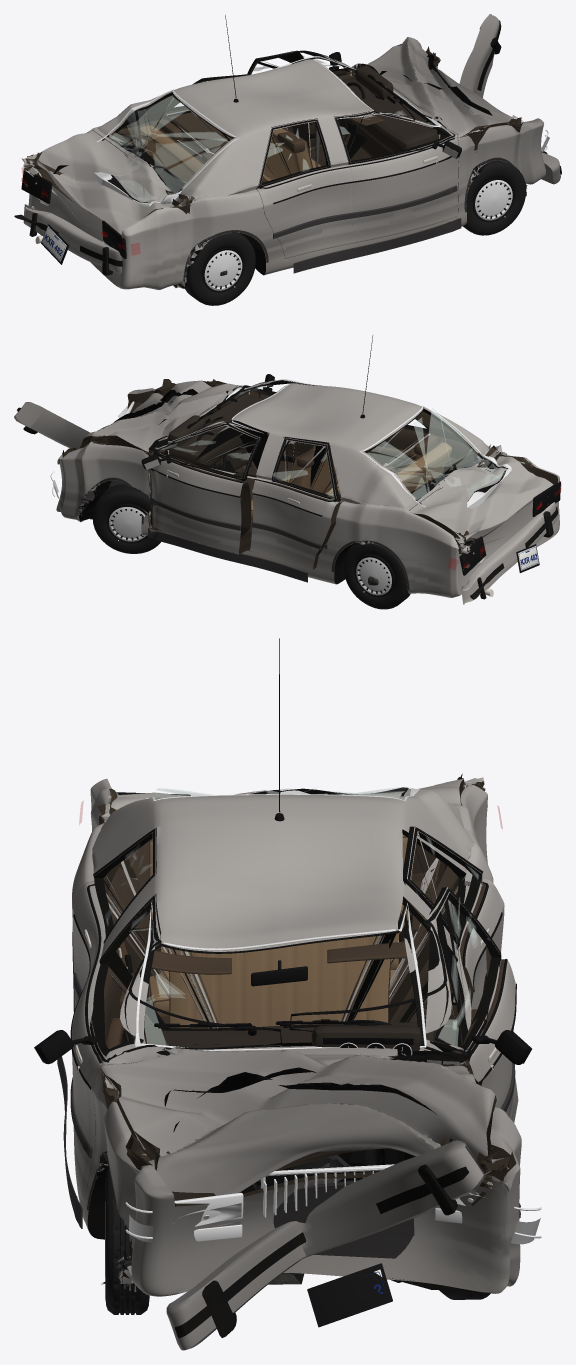
File: sedan87_front_d2.glb
The picture shows the model from 3 angles, top to bottom: view 1: azimuth 30°, elevation 25°; view 2: azimuth 150°, elevation 25°; view 3: azimuth 270°, elevation 25°; orthographic projection. The views are drawn at different scales.
Parts seen in each view (by area): view 1: Body, Interior, Door_FR, Trunk, Glass, Door_RR, Hood, Wheel_RR_mesh, Wheel_FR_mesh, Trim, Bumper_R, Bumper_F (+6 smaller); view 2: Body, Door_FL, Interior, Glass, Door_RL, Trunk, Hood, Wheel_FL_mesh, Wheel_RL_mesh, Bumper_R, Trim, Ends (+8 smaller); view 3: Body, Hood, Interior, Bumper_F, Ends, Door_FL, Door_FR, Glass, Door_RL, Engine, Trim_FR, Trim_FL (+7 smaller).
Boxes of the visible parts, <box> form: Body: <box>21,46,545,289</box>; Interior: <box>139,65,441,182</box>; Door_FR: <box>334,111,458,242</box>; Trunk: <box>32,130,180,234</box>; Glass: <box>94,56,441,206</box>; Door_RR: <box>256,118,356,258</box>; Hood: <box>364,37,515,137</box>; Wheel_RR_mesh: <box>185,232,255,305</box>; Wheel_FR_mesh: <box>462,160,526,235</box>; Trim: <box>183,15,527,281</box>; Bumper_R: <box>14,204,122,275</box>; Bumper_F: <box>459,14,561,184</box>; Body: <box>56,379,559,597</box>; Door_FL: <box>148,424,261,554</box>; Interior: <box>168,392,451,520</box>; Glass: <box>168,379,511,508</box>; Door_RL: <box>250,437,340,569</box>; Trunk: <box>409,452,553,543</box>; Hood: <box>79,380,239,453</box>; Wheel_FL_mesh: <box>92,483,160,553</box>; Wheel_RL_mesh: <box>343,543,410,609</box>; Bumper_R: <box>461,502,558,604</box>; Trim: <box>76,335,409,590</box>; Ends: <box>50,401,560,575</box>; Body: <box>72,777,521,1296</box>; Hood: <box>100,1049,496,1195</box>; Interior: <box>122,834,436,1055</box>; Bumper_F: <box>166,1140,485,1350</box>; Ends: <box>116,792,541,1327</box>; Door_FL: <box>400,887,518,1122</box>; Door_FR: <box>72,894,169,1203</box>; Glass: <box>129,787,426,1050</box>; Door_RL: <box>403,826,504,1045</box>; Engine: <box>253,1148,414,1258</box>; Trim_FR: <box>34,895,282,1158</box>; Trim_FL: <box>289,888,531,1112</box>.
Bounding box in the file's own units: 4.57 × 2.15 × 2.13.
32 materials, 5 textured.
